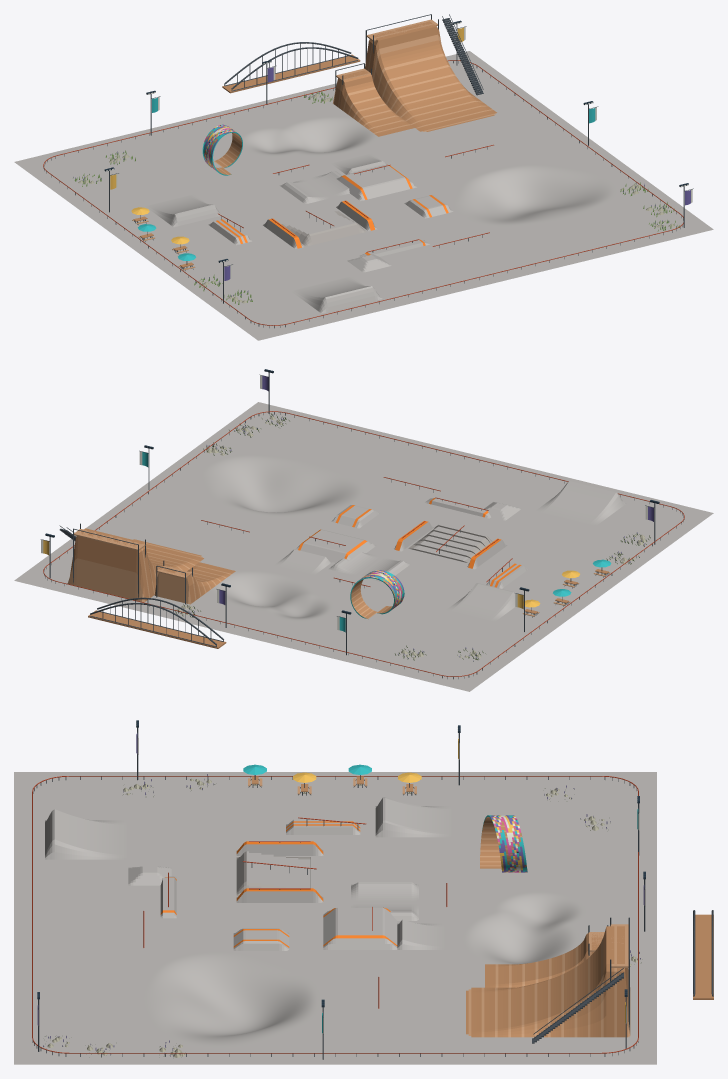
The model's file is park.glb.
The picture shows the model from 3 angles, top to bottom: view 1: azimuth 30°, elevation 25°; view 2: azimuth 150°, elevation 25°; view 3: azimuth 270°, elevation 25°; orthographic projection. The views are drawn at different scales.
Parts seen in each view (by area): view 1: SolkajenPlaza, Transitions, trappor och streetplaza, Ljusmaster, vimplar, utsiktstorn och uteservering, Graffitiloop och grindrails, Bågbron och strandrabatter; view 2: SolkajenPlaza, Transitions, trappor och streetplaza, Graffitiloop och grindrails, Ljusmaster, vimplar, utsiktstorn och uteservering, Bågbron och strandrabatter; view 3: SolkajenPlaza, Transitions, trappor och streetplaza, Graffitiloop och grindrails, Ljusmaster, vimplar, utsiktstorn och uteservering, Bågbron och strandrabatter.
Part boxes in pixels (x1=…): SolkajenPlaza: x1=14, y1=51, x2=713, y2=340; Transitions, trappor och streetplaza: x1=145, y1=21, x2=496, y2=313; Ljusmaster, vimplar, utsiktstorn och uteservering: x1=104, y1=14, x2=693, y2=303; Graffitiloop och grindrails: x1=43, y1=60, x2=683, y2=328; Bågbron och strandrabatter: x1=73, y1=42, x2=680, y2=304; SolkajenPlaza: x1=14, y1=402, x2=713, y2=691; Transitions, trappor och streetplaza: x1=67, y1=481, x2=626, y2=621; Graffitiloop och grindrails: x1=43, y1=411, x2=684, y2=679; Ljusmaster, vimplar, utsiktstorn och uteservering: x1=40, y1=369, x2=659, y2=655; Bågbron och strandrabatter: x1=88, y1=413, x2=650, y2=661; SolkajenPlaza: x1=14, y1=772, x2=656, y2=1064; Transitions, trappor och streetplaza: x1=45, y1=797, x2=630, y2=1037; Graffitiloop och grindrails: x1=32, y1=776, x2=638, y2=1056; Ljusmaster, vimplar, utsiktstorn och uteservering: x1=37, y1=720, x2=645, y2=1059; Bågbron och strandrabatter: x1=43, y1=774, x2=713, y2=1057.
Bounding box in the file's own units: 112 × 17.83 × 113.
